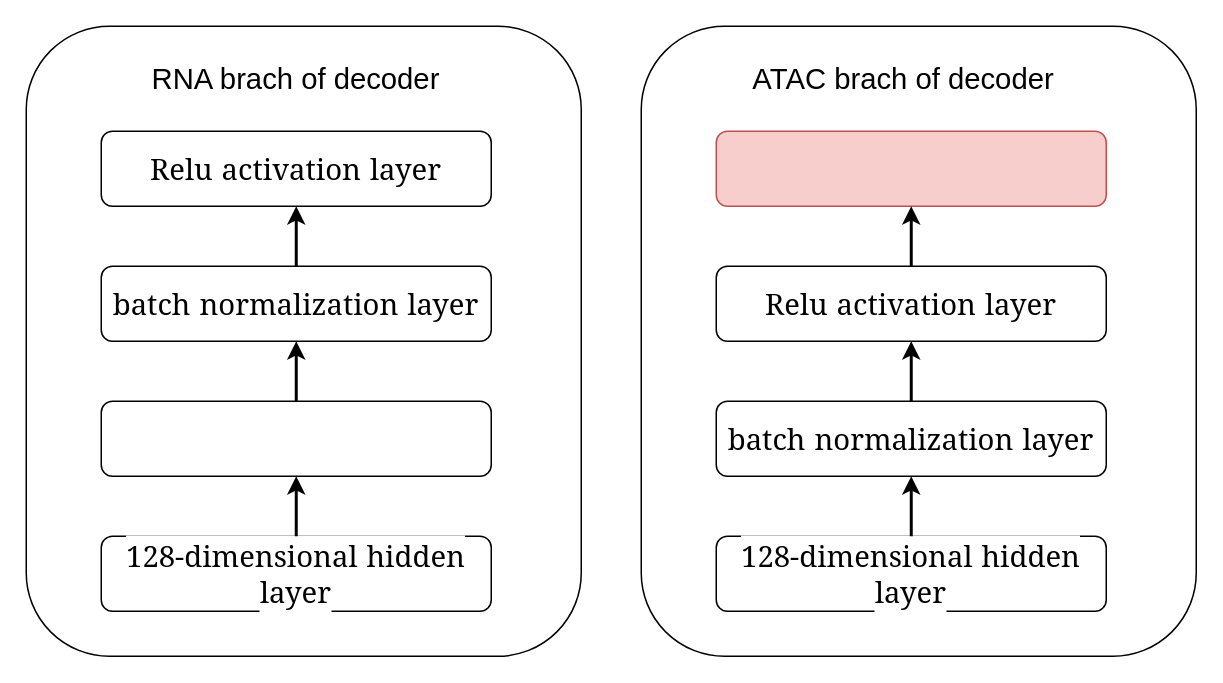
The diagram is 1223 pixels wide and 683 high, and some of its shapes have lost their labels. Each missing label, with the box of its shape:
a head self-attention layer: (715, 130, 1106, 206)
layer normalization layer: (100, 400, 491, 476)
